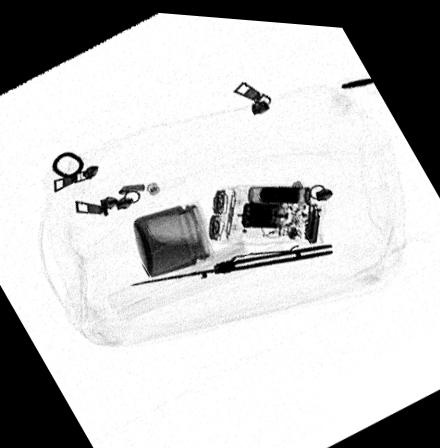Knife: (129, 238, 333, 284)
